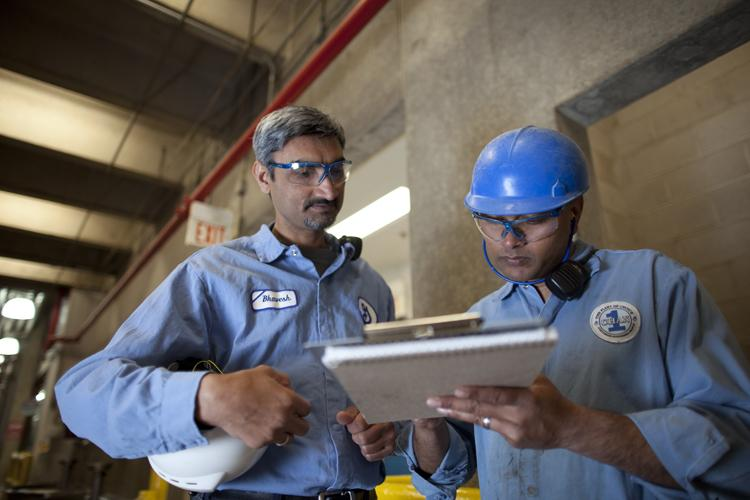helmet: (464, 127, 594, 216)
